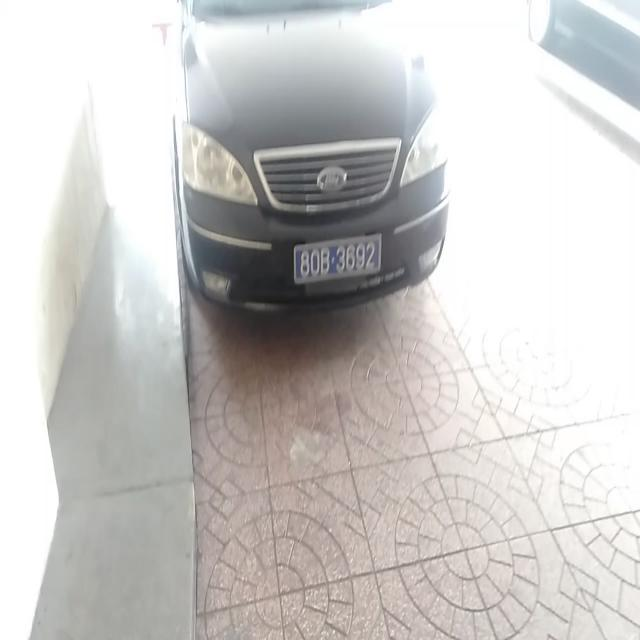bien_xanh: (290, 236, 384, 284)
